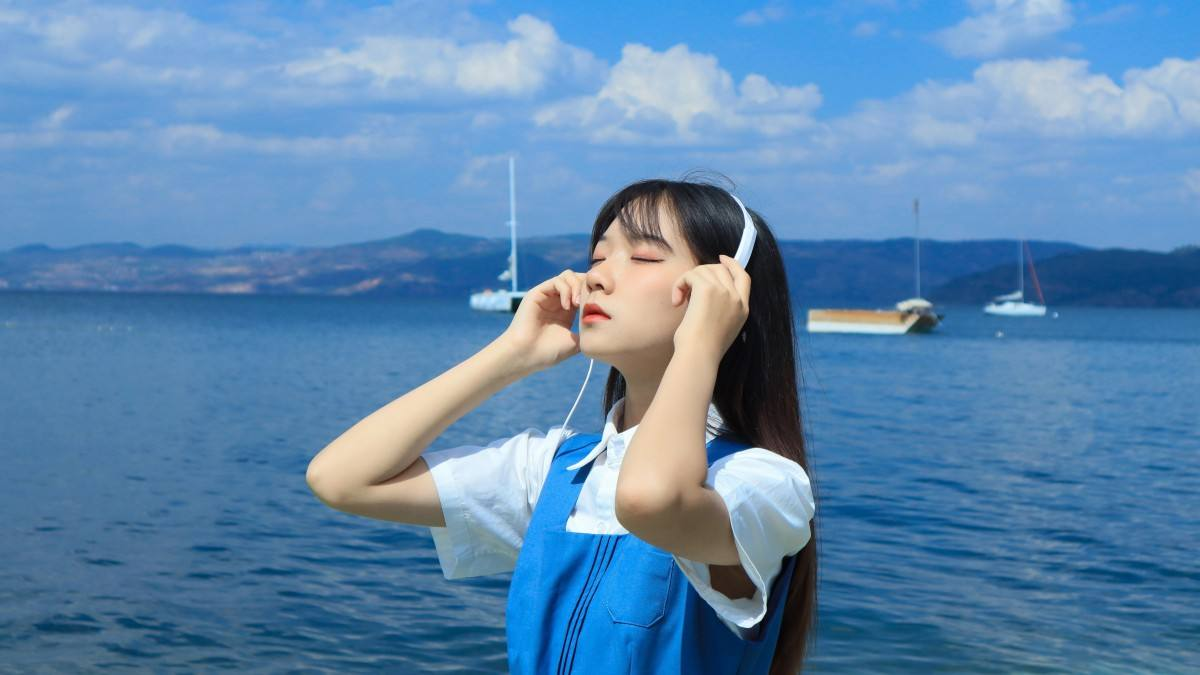person: (359, 95, 755, 661)
